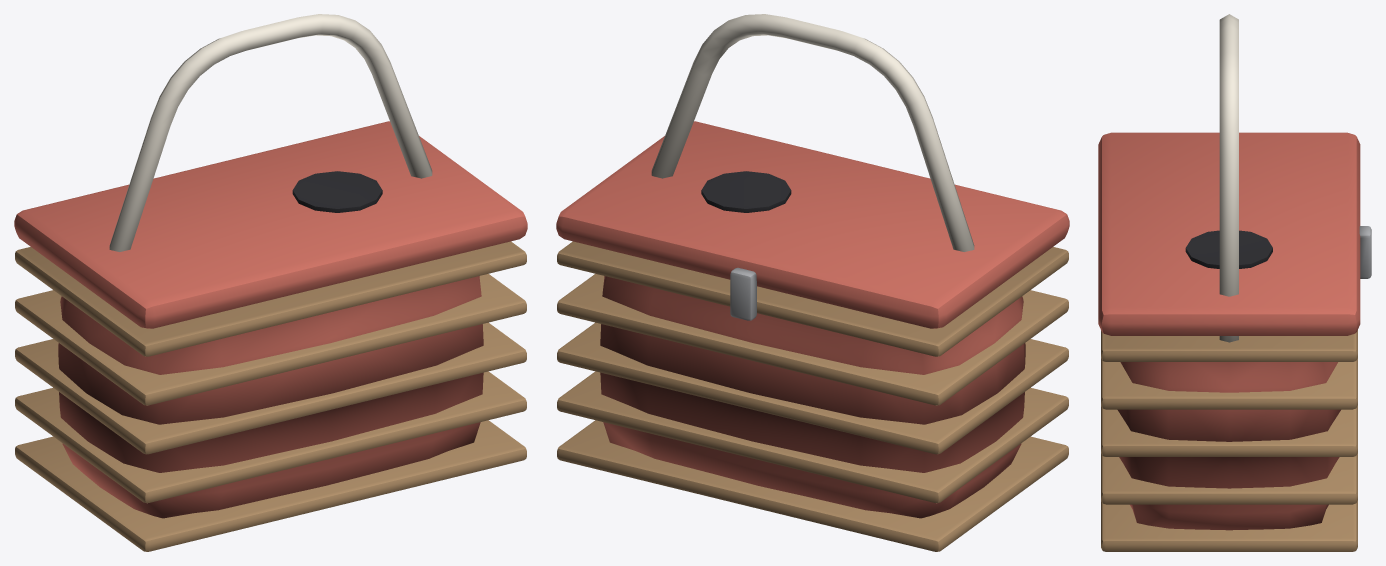
The model's file is fishing_creel.glb.
3 views of the same model, side by side, from view 1: azimuth 30°, elevation 25°; view 2: azimuth 150°, elevation 25°; view 3: azimuth 270°, elevation 25° (orthographic). The views are drawn at different scales.
Visible parts, largest first — view 1: PART; view 2: PART; view 3: PART.
Boxes of the visible parts, box(x1,y1,x2,y2) form: PART: box(14, 14, 527, 551); PART: box(556, 14, 1069, 551); PART: box(1098, 14, 1371, 551).
Size of the model in its own units: 0.35 by 0.3962 by 0.219.
